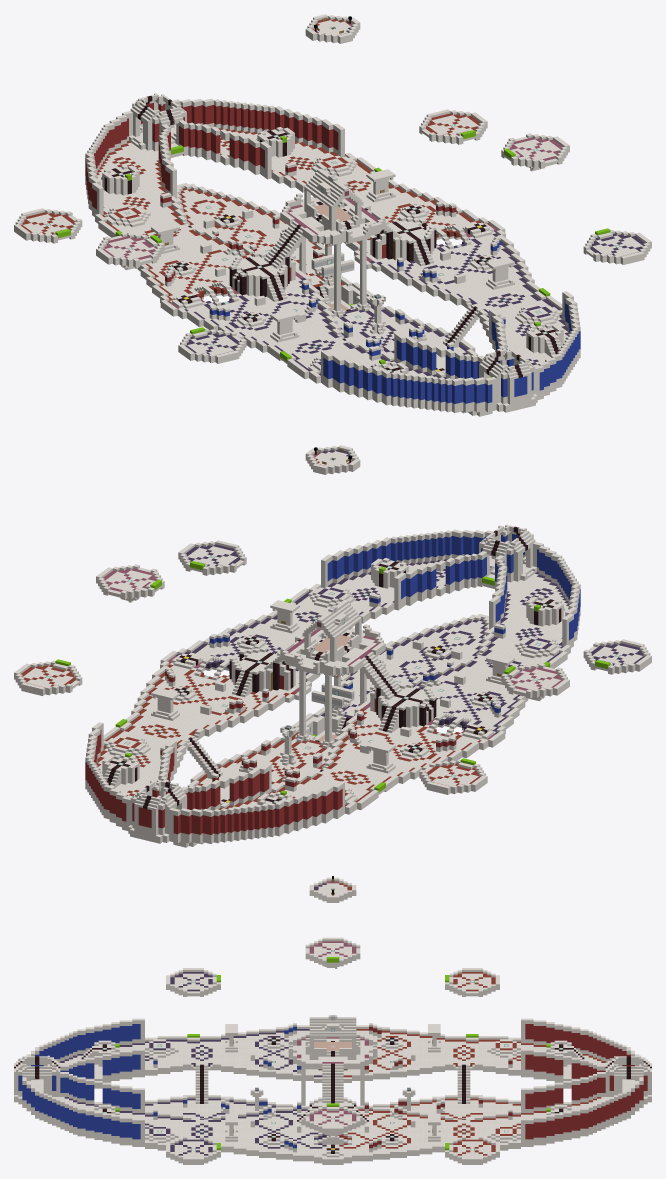
The model's file is minecraft.obj.
The picture shows the model from 3 angles, top to bottom: view 1: azimuth 30°, elevation 25°; view 2: azimuth 150°, elevation 25°; view 3: azimuth 270°, elevation 25°; orthographic projection. The views are drawn at different scales.
Size of the model in its own units: 107 by 68.02 by 151.
